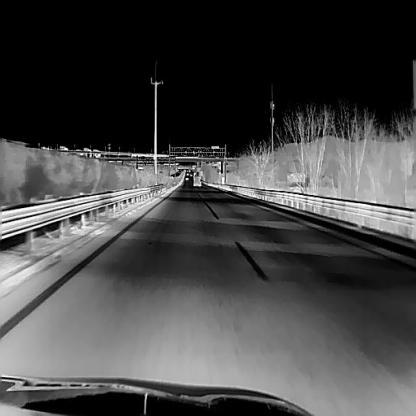car: (192, 170, 201, 185)
